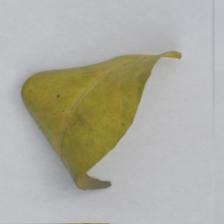greening: (12, 63, 164, 153)
